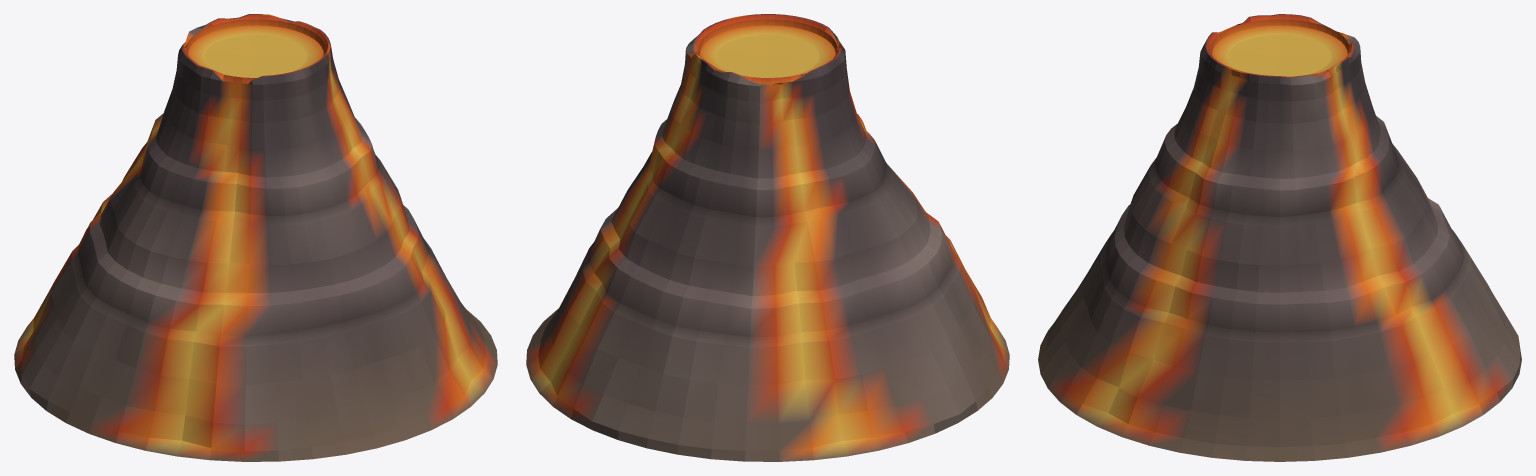
Rendered from volcano.fbx.
3 renders of one model, left to right at view 1: azimuth 30°, elevation 25°; view 2: azimuth 150°, elevation 25°; view 3: azimuth 270°, elevation 25°, orthographic.
Parts seen in each view (by area): view 1: volcano; view 2: volcano; view 3: volcano.
Boxes of the visible parts, x1,y1,x2,y2 form: volcano: [14, 14, 497, 461]; volcano: [526, 14, 1009, 461]; volcano: [1038, 14, 1521, 461].
Bounding box in the file's own units: 56.4 × 40.4 × 56.4.
